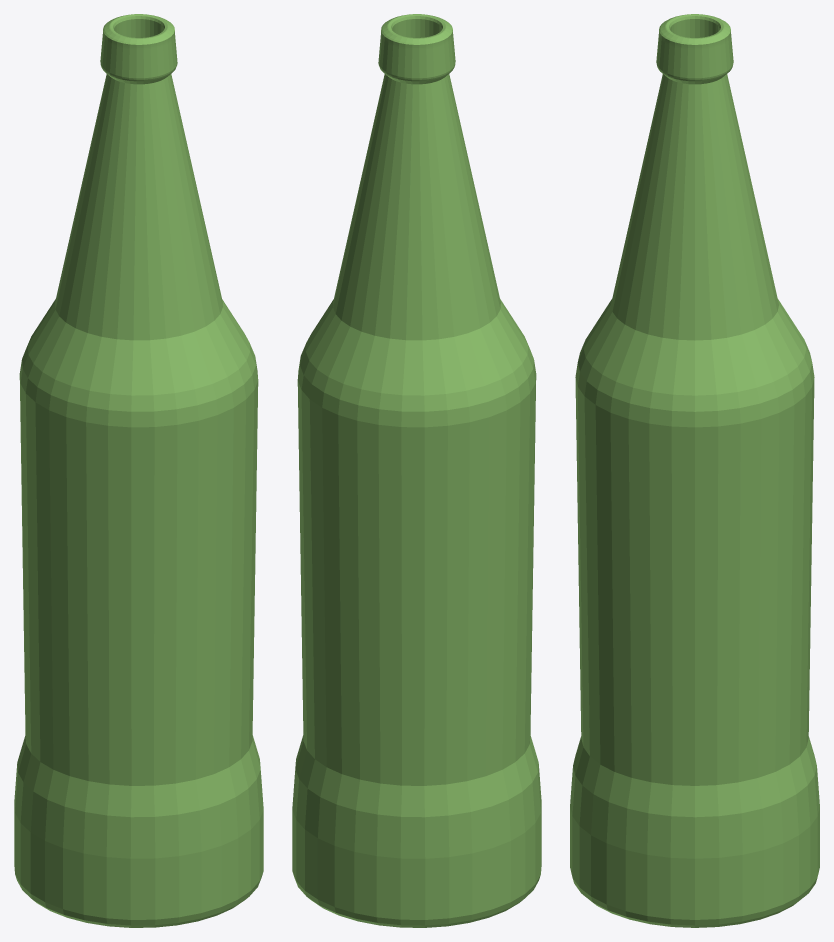
Rendered from Glass.fbx.
3 renders of one model, left to right at view 1: azimuth 30°, elevation 25°; view 2: azimuth 150°, elevation 25°; view 3: azimuth 270°, elevation 25°, orthographic.
Visible parts, largest first — view 1: Glass; view 2: Glass; view 3: Glass.
Boxes of the visible parts, bbox=[...] form: Glass: bbox=[14, 14, 263, 927]; Glass: bbox=[292, 14, 541, 927]; Glass: bbox=[570, 14, 819, 927].
Bounding box in the file's own units: 19.94 × 75.12 × 19.94.
